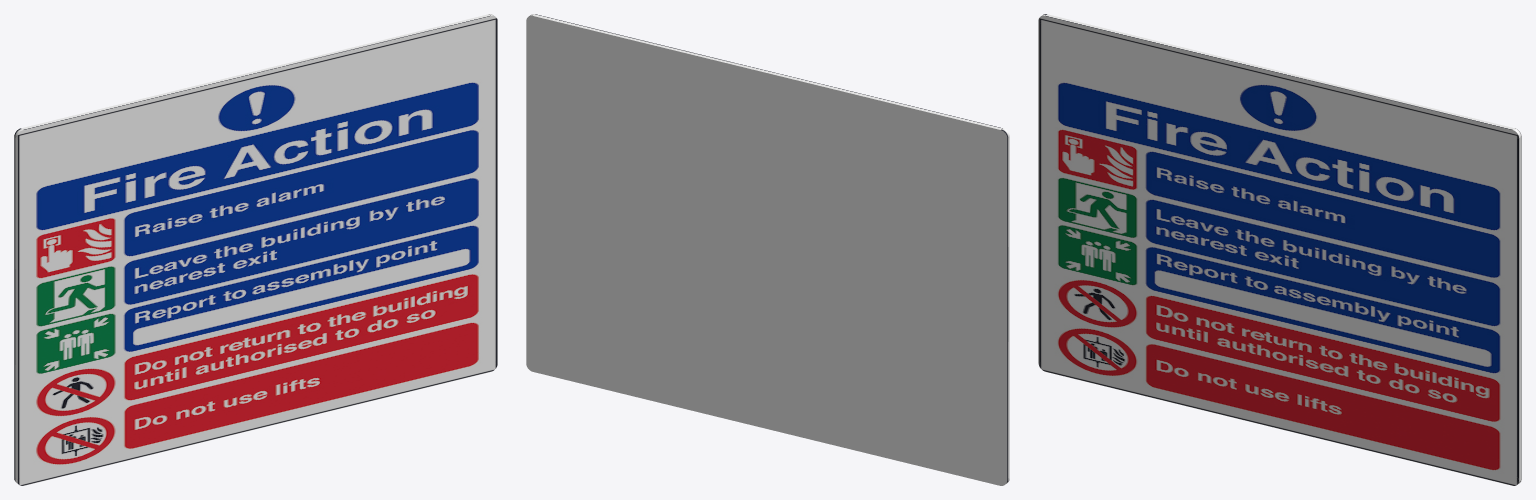
3 renders of one model, left to right at view 1: azimuth 30°, elevation 25°; view 2: azimuth 150°, elevation 25°; view 3: azimuth 330°, elevation 25°, orthographic.
Parts seen in each view (by area): view 1: Danger_sign; view 2: Danger_sign (×2); view 3: Danger_sign.
Part boxes in pixels (bbox=[...]): Danger_sign: bbox=[14, 14, 497, 485]; Danger_sign (×2): bbox=[526, 14, 1009, 485]; Danger_sign: bbox=[1038, 14, 1521, 485].
Size of the model in its own units: 11.63 by 0.1 by 8.22.
2 materials, 1 textured.
